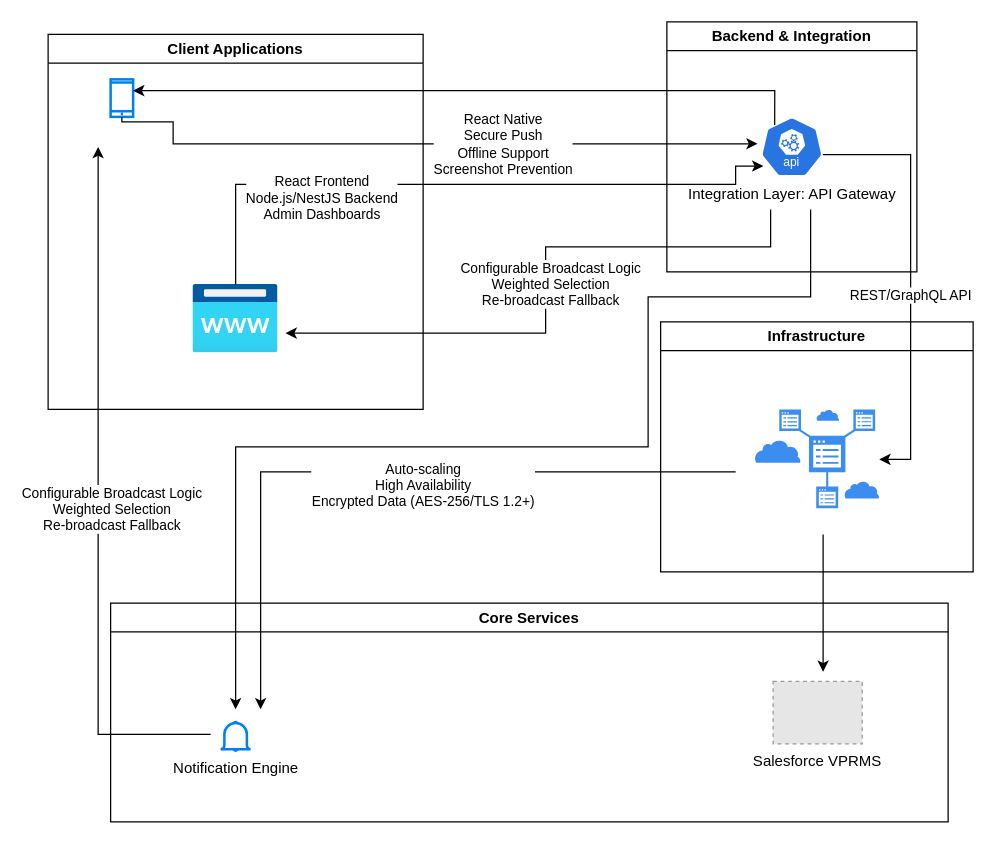
The diagram is 995 pixels wide and 844 high, and some of its shapes have lost their labels. Grey dashed boxes stand in for pictures. The centre of each missing label's shape, as x and y in pixels:
Cloud Infrastructure - AWS/Azure - Singapore: (816,458)
Mobile App: (121,98)
Web App: (235,318)
